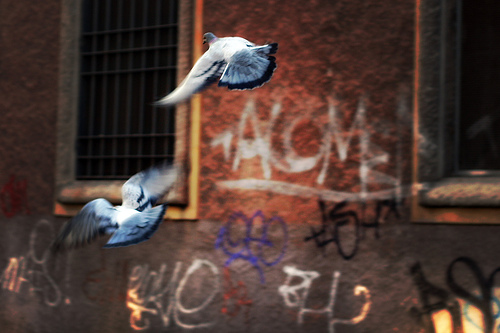graffiti: (211, 95, 438, 199), (301, 195, 414, 262), (404, 255, 500, 332), (127, 256, 220, 333), (1, 217, 74, 309), (277, 263, 372, 329), (215, 208, 289, 281), (216, 265, 257, 324), (82, 247, 122, 306)
